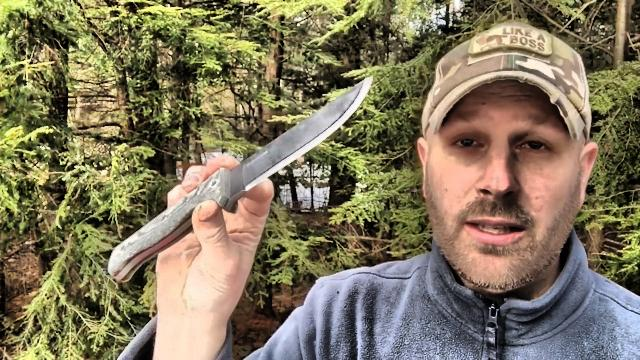knife: (179, 70, 379, 238)
